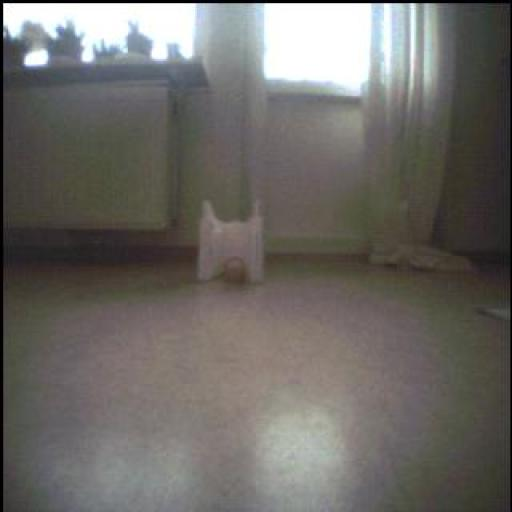Basket: (221, 256, 253, 286)
